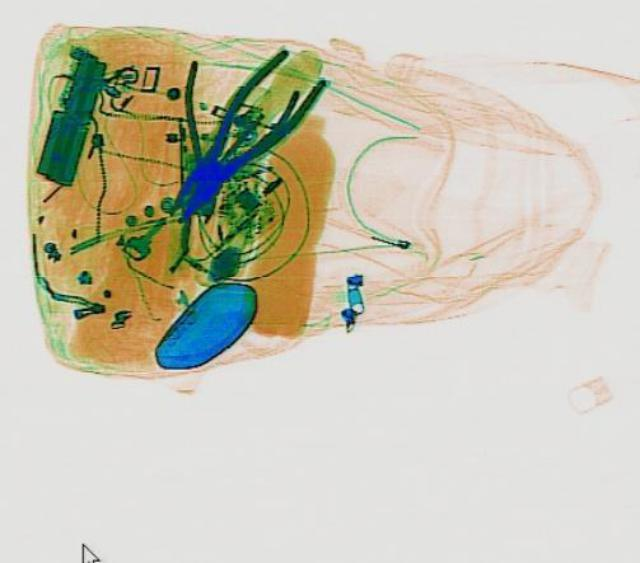Pliers: (148, 42, 334, 234), (119, 51, 301, 227)
